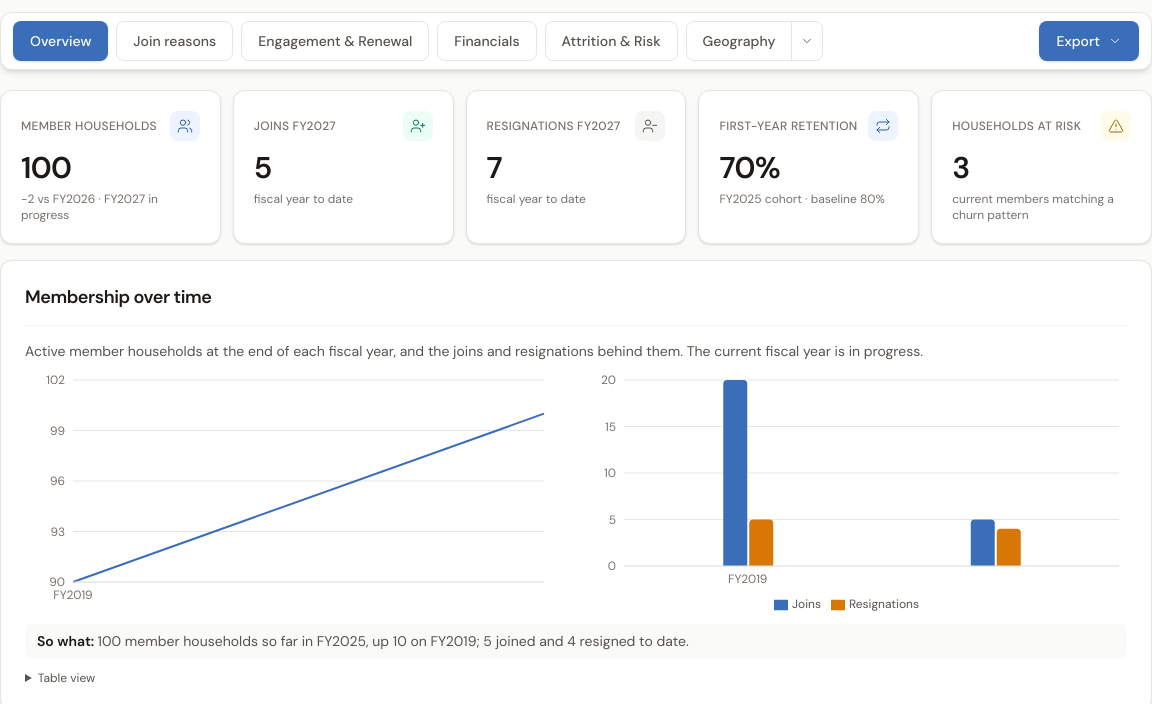
Test: InsightsPage › serves a revisited geography view from the session cache instead of refetching
This screenshot has width=1152, height=704.
Click the button named "Choose geography view" at (807, 41), box [792,22,822,60]
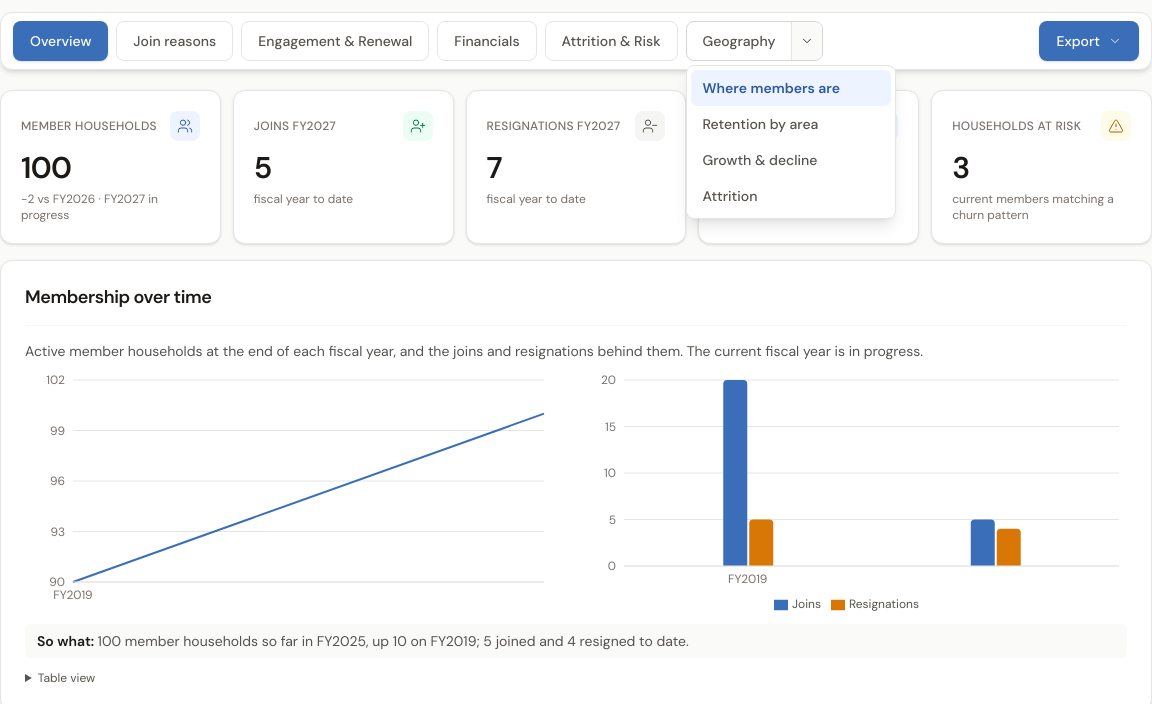
Click the menu item "Attrition" at (790, 196), box [690,178,890,214]
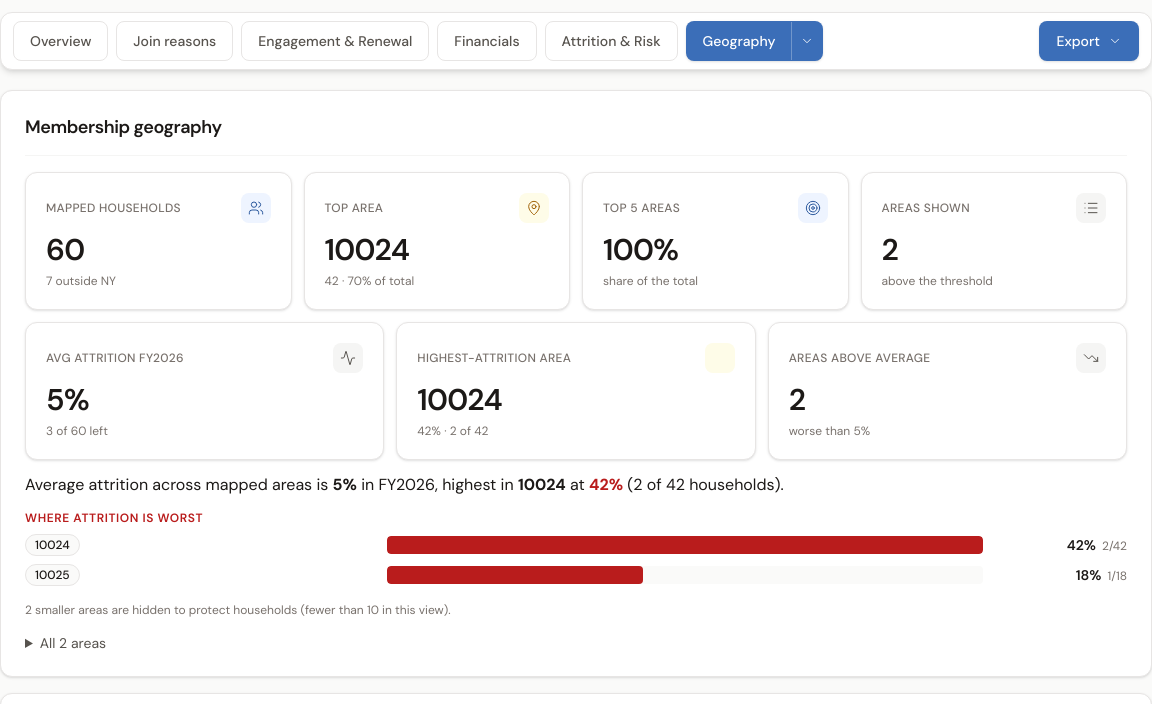
Result: the element named "Attrition — FY2026" is shown at [25,322,1127,590]
Click the button named "Choose geography view" at (807, 41), box [792,22,822,60]
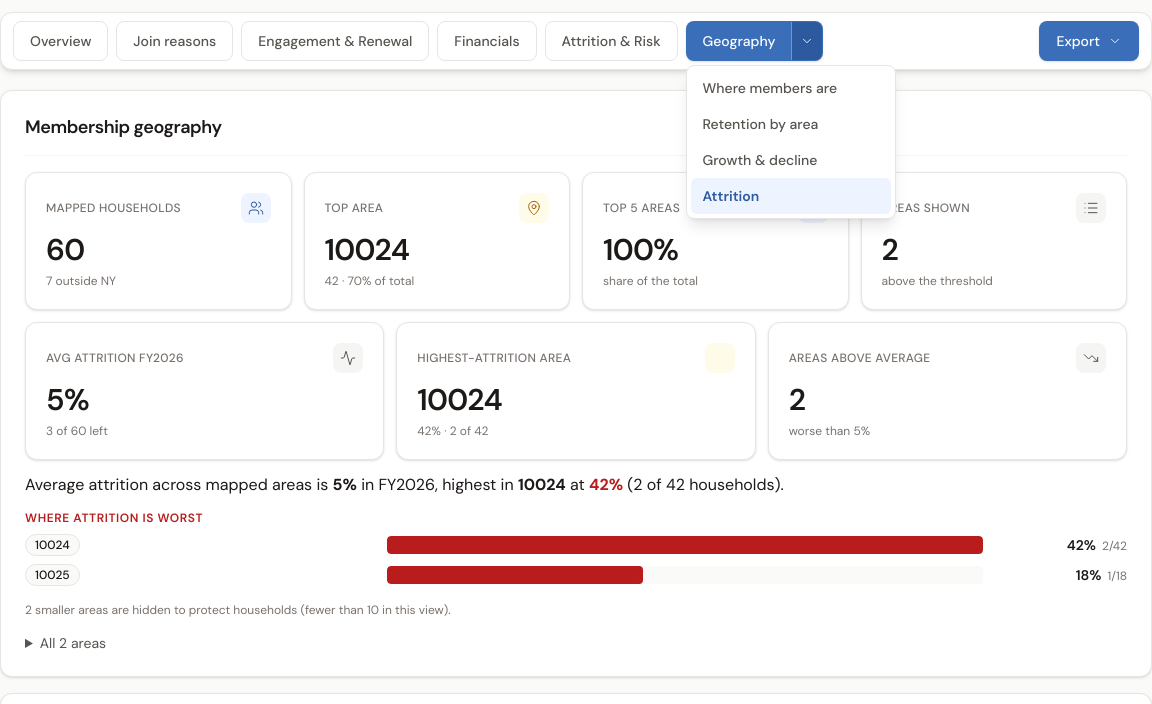
Click the menu item "Where members are" at (790, 88), box [690,70,890,106]
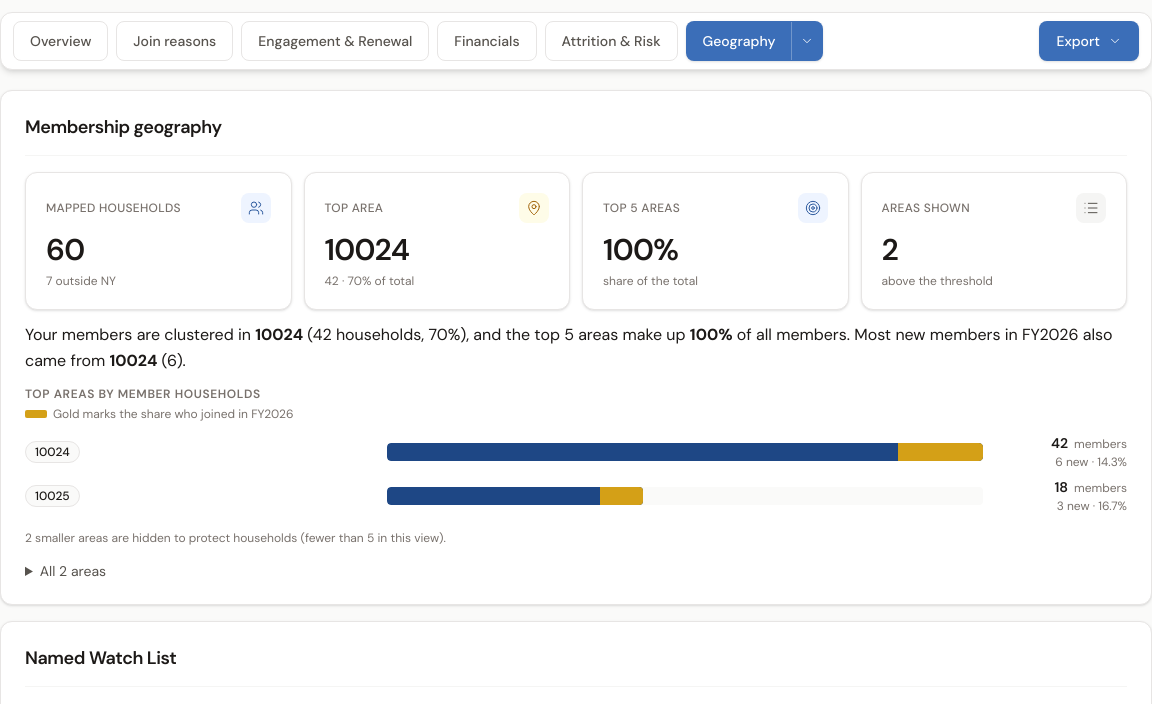
Result: the element named "Where members are — FY2026" is shown at [25,322,1127,518]
